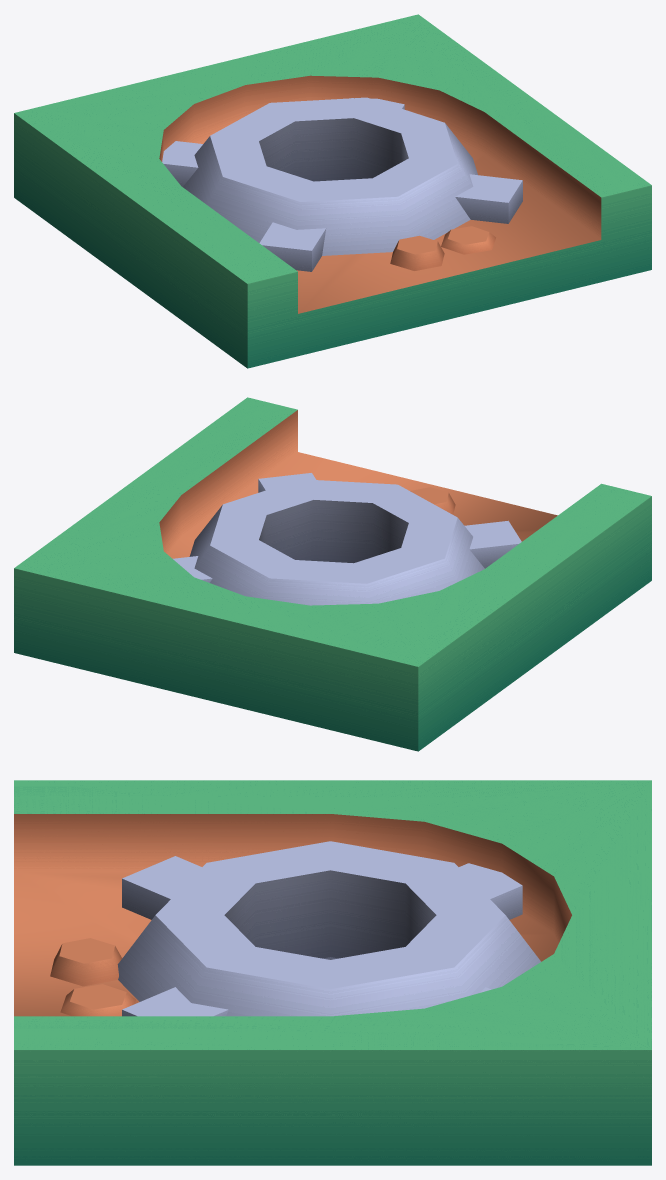
File: tower-defense-kit--tile-spawn-end-round.glb
3 renders of one model, top to bottom at view 1: azimuth 30°, elevation 25°; view 2: azimuth 150°, elevation 25°; view 3: azimuth 270°, elevation 25°, orthographic. The views are drawn at different scales.
Parts seen in each view (by area): view 1: tile-spawn-end-round; view 2: tile-spawn-end-round; view 3: tile-spawn-end-round.
Boxes of the visible parts, <box> form: tile-spawn-end-round: <box>14,14,651,368</box>; tile-spawn-end-round: <box>14,397,651,751</box>; tile-spawn-end-round: <box>14,780,651,1165</box>.
Bounding box in the file's own units: 1 × 0.2 × 1.
1 material, 1 textured.
